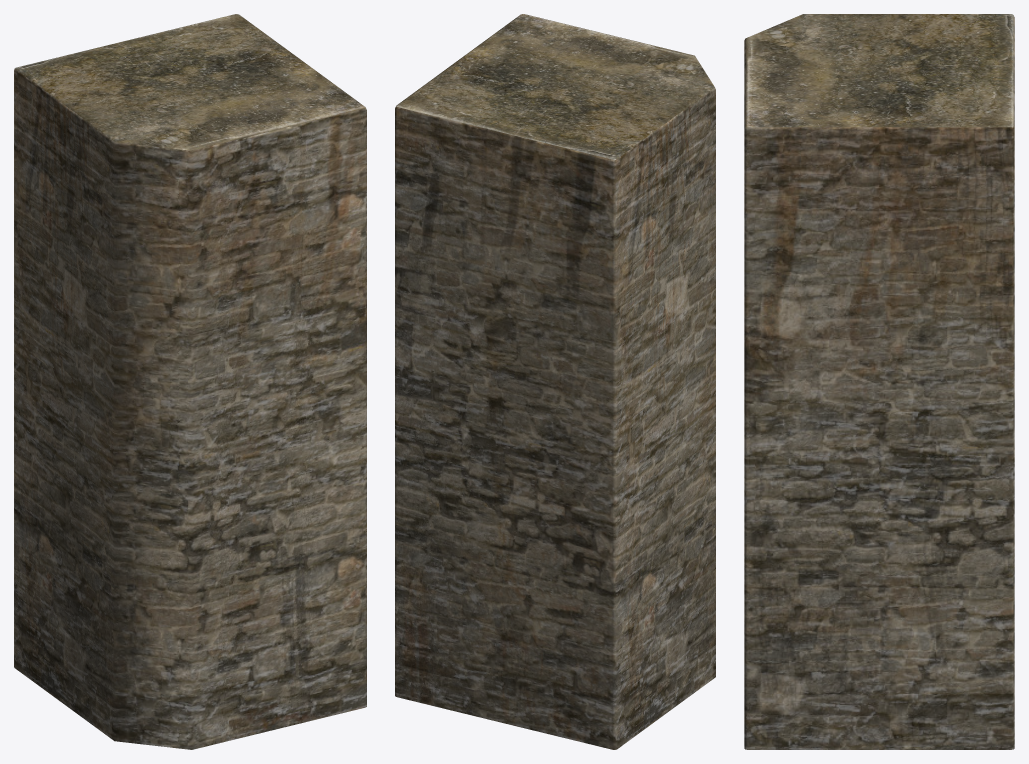
File: modular_fort_01_wall_walkway_corner_02.gltf
3 views of the same model, side by side, from view 1: azimuth 30°, elevation 25°; view 2: azimuth 150°, elevation 25°; view 3: azimuth 270°, elevation 25° (orthographic). The views are drawn at different scales.
Parts seen in each view (by area): view 1: modular_fort_01_wall_walkway_corner_02__x; view 2: modular_fort_01_wall_walkway_corner_02__x; view 3: modular_fort_01_wall_walkway_corner_02__x.
Part boxes in pixels (bbox=[...]): modular_fort_01_wall_walkway_corner_02__x: bbox=[14, 14, 366, 749]; modular_fort_01_wall_walkway_corner_02__x: bbox=[395, 14, 715, 749]; modular_fort_01_wall_walkway_corner_02__x: bbox=[744, 14, 1014, 749].
Bounding box in the file's own units: 2.79 × 7.08 × 2.79.
2 materials, 2 textured.
